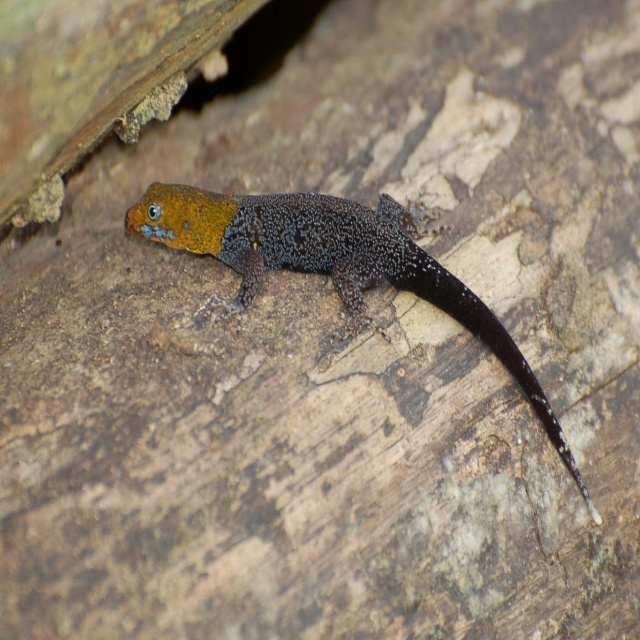Lizard: (154, 163, 600, 517)
